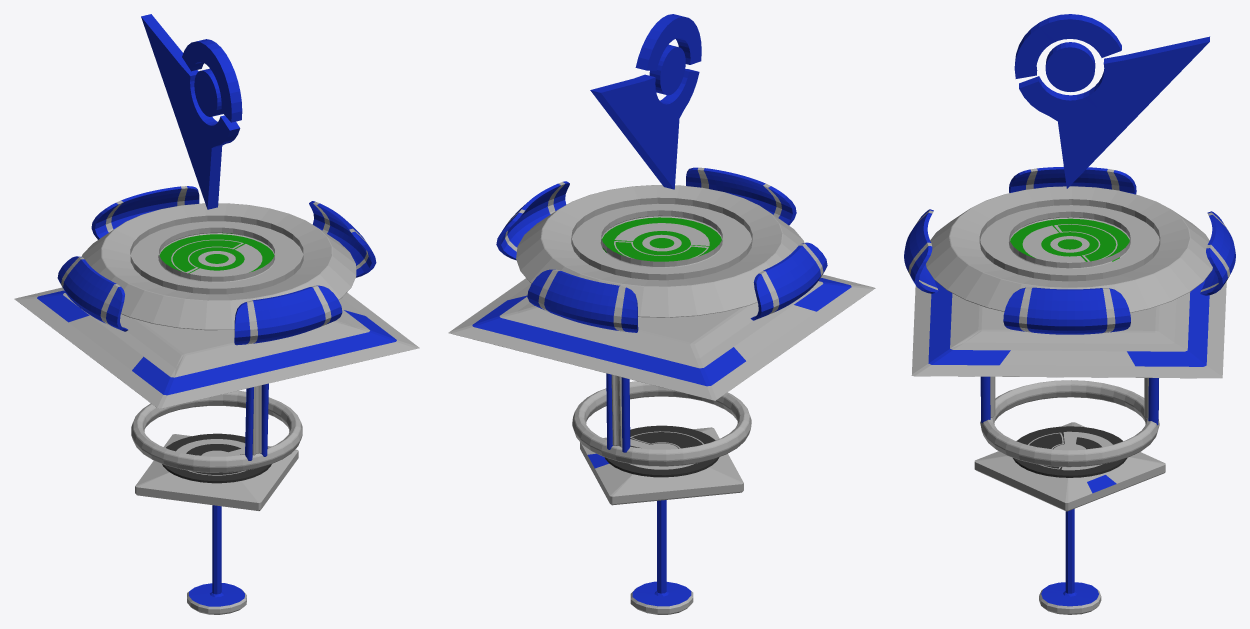
The model's file is blegym.obj.
3 renders of one model, left to right at view 1: azimuth 30°, elevation 25°; view 2: azimuth 150°, elevation 25°; view 3: azimuth 270°, elevation 25°, orthographic. The views are drawn at different scales.
Parts seen in each view (by area): view 1: blegym; view 2: blegym; view 3: blegym.
Boxes of the visible parts, bbox=[...] form: blegym: bbox=[14, 14, 419, 614]; blegym: bbox=[448, 14, 875, 614]; blegym: bbox=[904, 14, 1235, 614].
Bounding box in the file's own units: 0.5141 × 1 × 0.5141.
